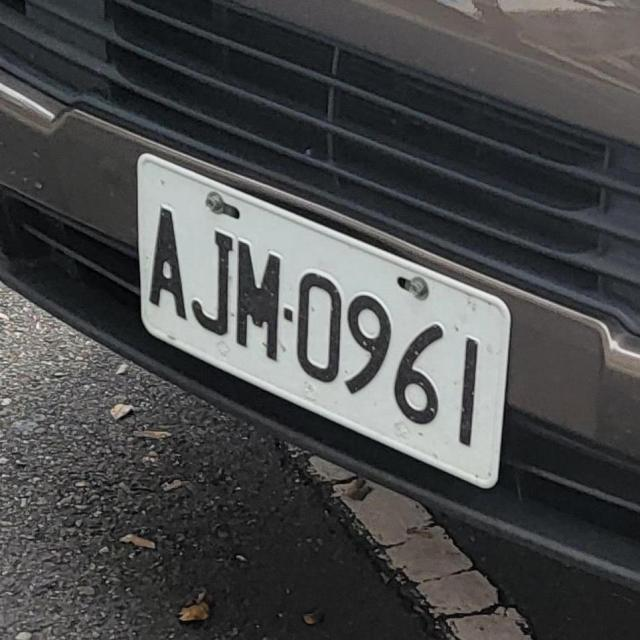W: (134, 147, 513, 500)
